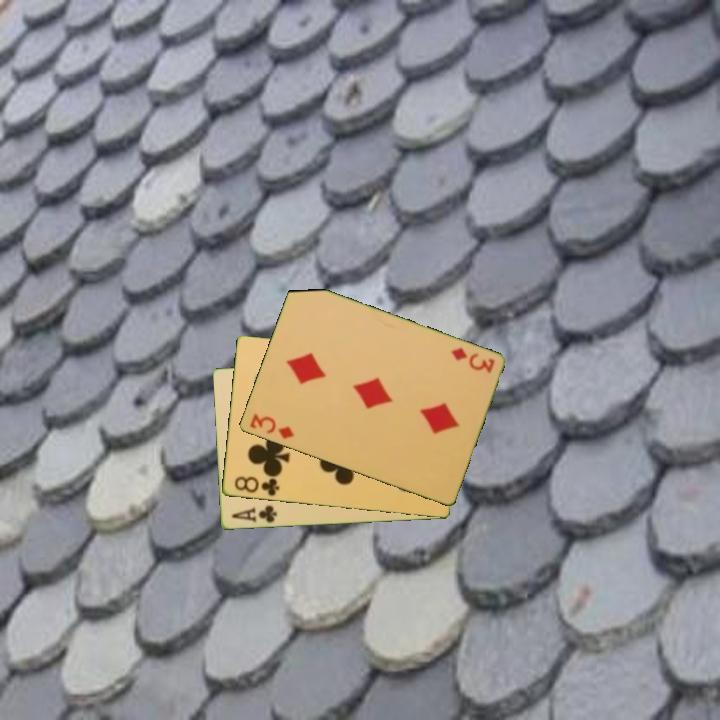3d: (246, 410, 297, 442), (447, 344, 497, 376)
8c: (231, 473, 282, 499)
Ac: (228, 502, 280, 526)
